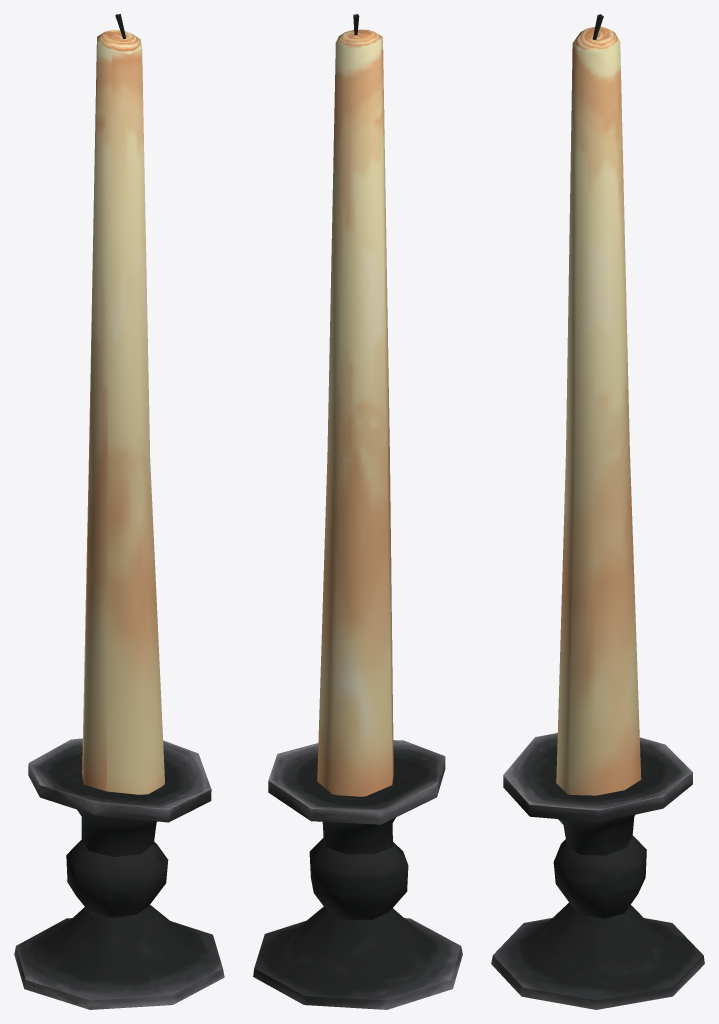
Rendered from SM_PROP_candle_city_03.fbx.
3 views of the same model, side by side, from view 1: azimuth 30°, elevation 25°; view 2: azimuth 150°, elevation 25°; view 3: azimuth 270°, elevation 25° (orthographic).
Parts seen in each view (by area): view 1: SM_PROP_candle_city_03; view 2: SM_PROP_candle_city_03; view 3: SM_PROP_candle_city_03.
Part boxes in pixels (bbox=[...]): SM_PROP_candle_city_03: bbox=[14, 14, 224, 1009]; SM_PROP_candle_city_03: bbox=[253, 14, 462, 1009]; SM_PROP_candle_city_03: bbox=[491, 14, 704, 1009].
Bounding box in the file's own units: 12.21 × 58.52 × 11.95.
